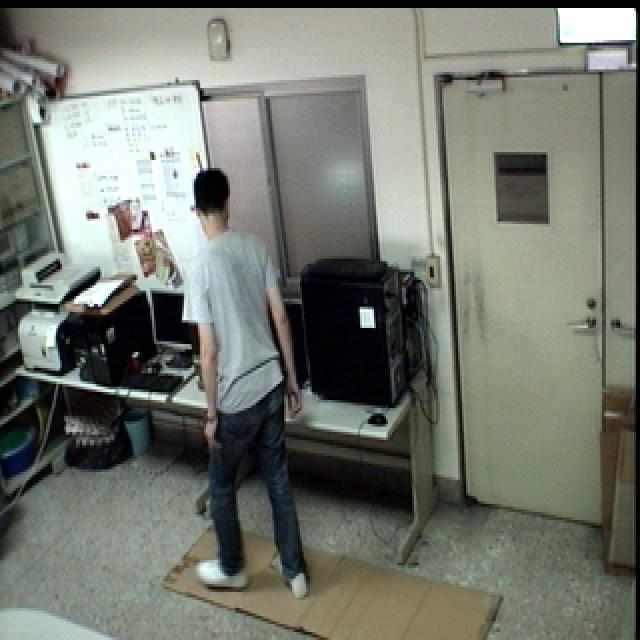stand: (182, 162, 312, 600)
